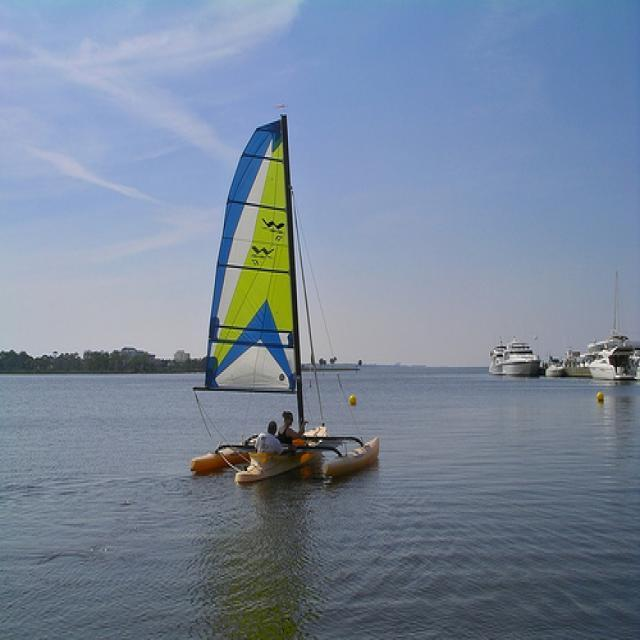Ship: (181, 118, 389, 492)
